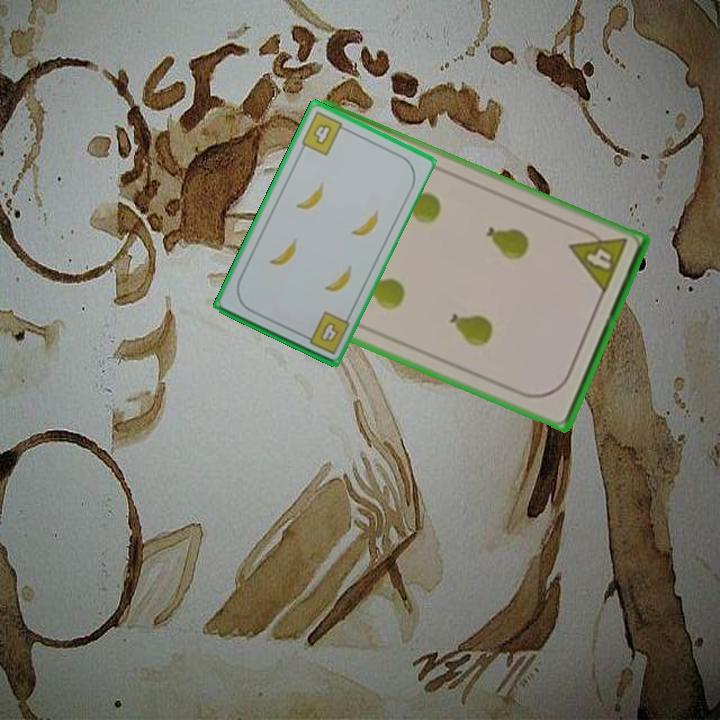4b: (298, 308, 353, 357), (298, 108, 351, 158)
4p: (566, 223, 630, 297)
